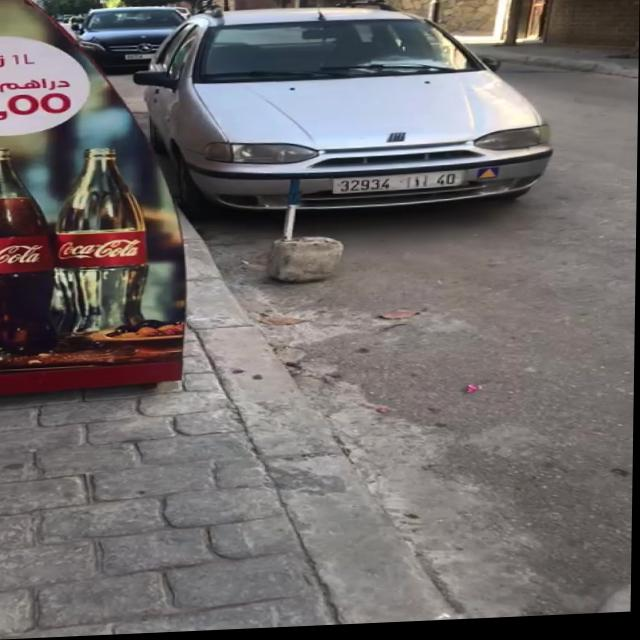License-Plate: (333, 176, 466, 197)
